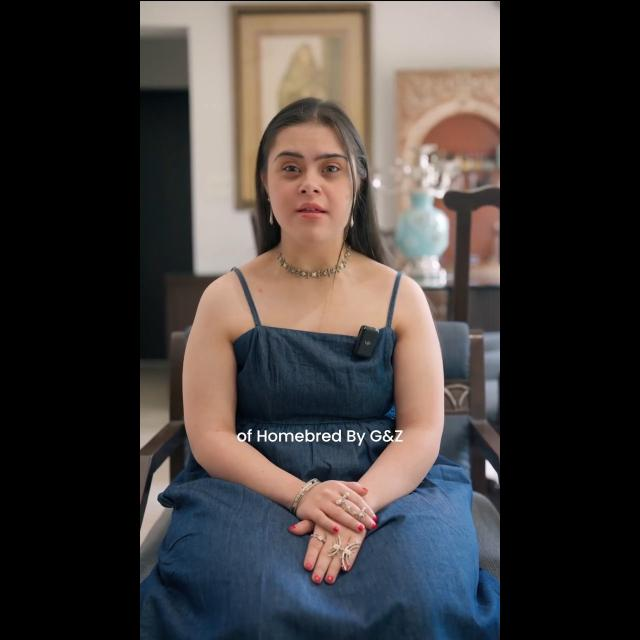dress: (170, 264, 480, 636)
ear ring: (264, 212, 278, 222), (349, 213, 358, 223)
